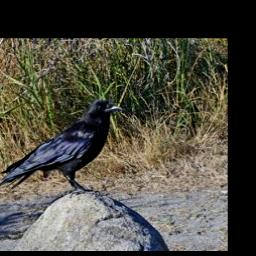Crow: (0, 96, 124, 199)
